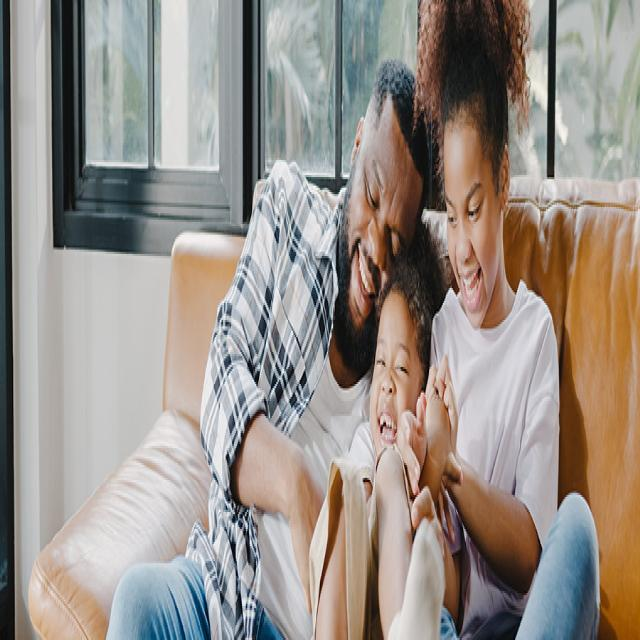adult: (107, 59, 430, 640)
child: (416, 1, 597, 640), (308, 249, 441, 640)
